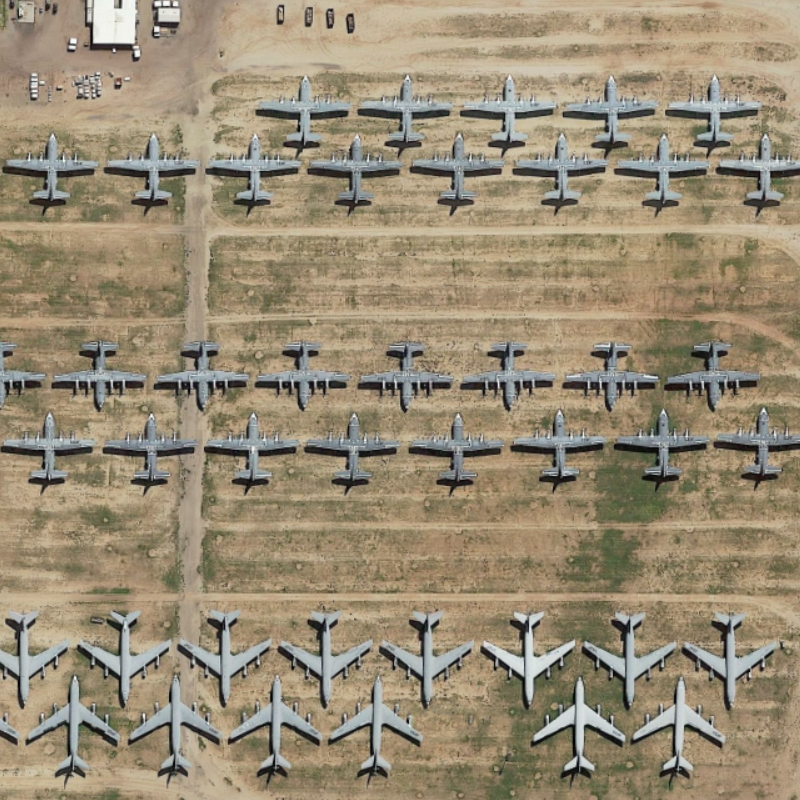A14: (680, 607, 787, 714), (521, 673, 629, 778), (631, 673, 733, 781), (173, 605, 276, 711), (276, 605, 379, 711), (225, 669, 325, 778), (376, 607, 482, 708), (76, 608, 179, 711), (481, 606, 581, 712), (30, 670, 125, 780), (129, 670, 223, 779), (580, 605, 676, 709), (331, 677, 426, 782), (1, 605, 65, 711)
A2: (614, 126, 715, 216), (254, 332, 357, 419), (460, 328, 559, 418), (563, 66, 661, 155), (516, 129, 613, 216), (359, 333, 459, 416), (252, 67, 349, 152), (409, 411, 506, 496), (459, 72, 562, 151), (104, 133, 202, 216), (105, 407, 198, 494), (665, 338, 770, 415), (307, 408, 403, 492), (50, 331, 149, 412), (668, 72, 771, 149), (1, 405, 96, 487), (204, 410, 300, 491), (2, 129, 101, 207), (355, 70, 451, 150), (565, 340, 668, 413), (713, 128, 800, 213), (617, 413, 712, 490), (412, 136, 508, 212), (309, 138, 407, 211), (206, 138, 303, 211), (154, 339, 251, 412), (515, 411, 606, 483), (715, 407, 800, 481)
